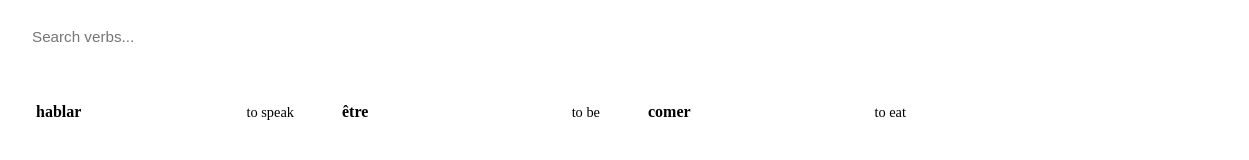
Test: filters verbs by their english translation too
Type "eat" into the search field with placeholder "Search verbs..." at (624, 36), box top-left (16, 16), bottom-right (1232, 57)
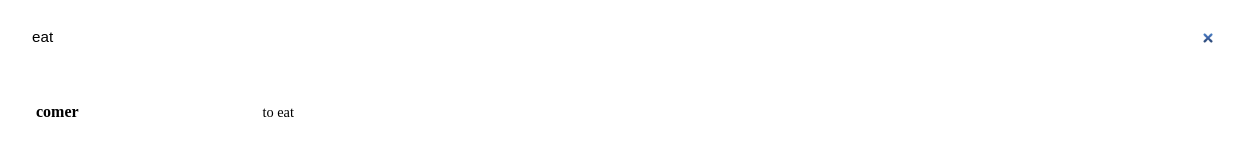
Check: the text "comer" is shown, box top-left (36, 103), bottom-right (79, 121)
Check: the link "hablar" is gone
